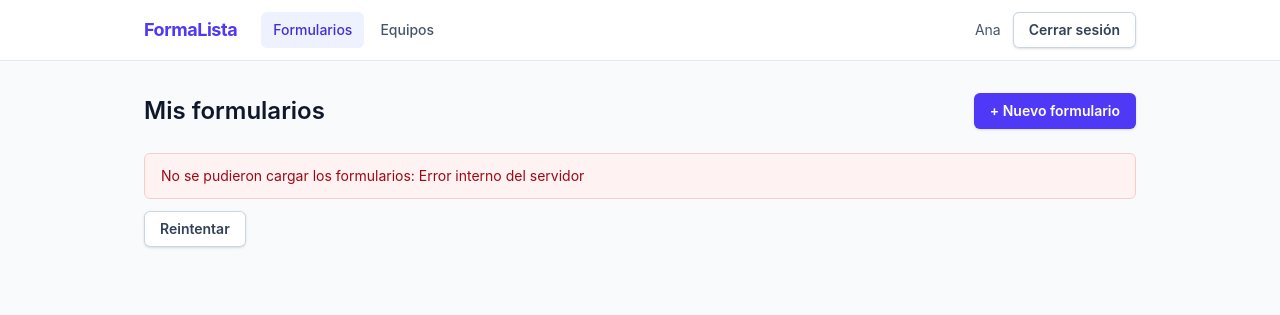
Test: Mis formularios: lista › si falla la carga muestra el error y permite reintentar
Expected: the message shows "Error interno del servidor", [419, 167, 584, 184]
Click the button "Reintentar" at (195, 229), box [144, 211, 246, 247]
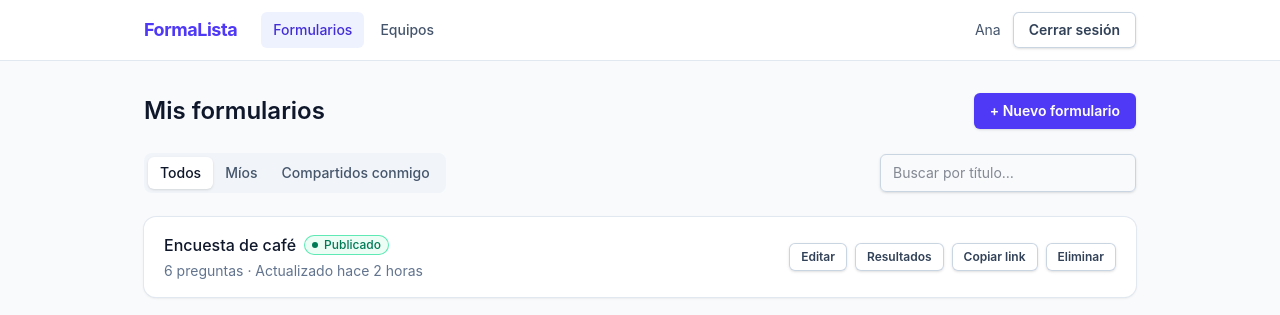
Result: the heading "Encuesta de café" is shown at [164, 233, 296, 257]
